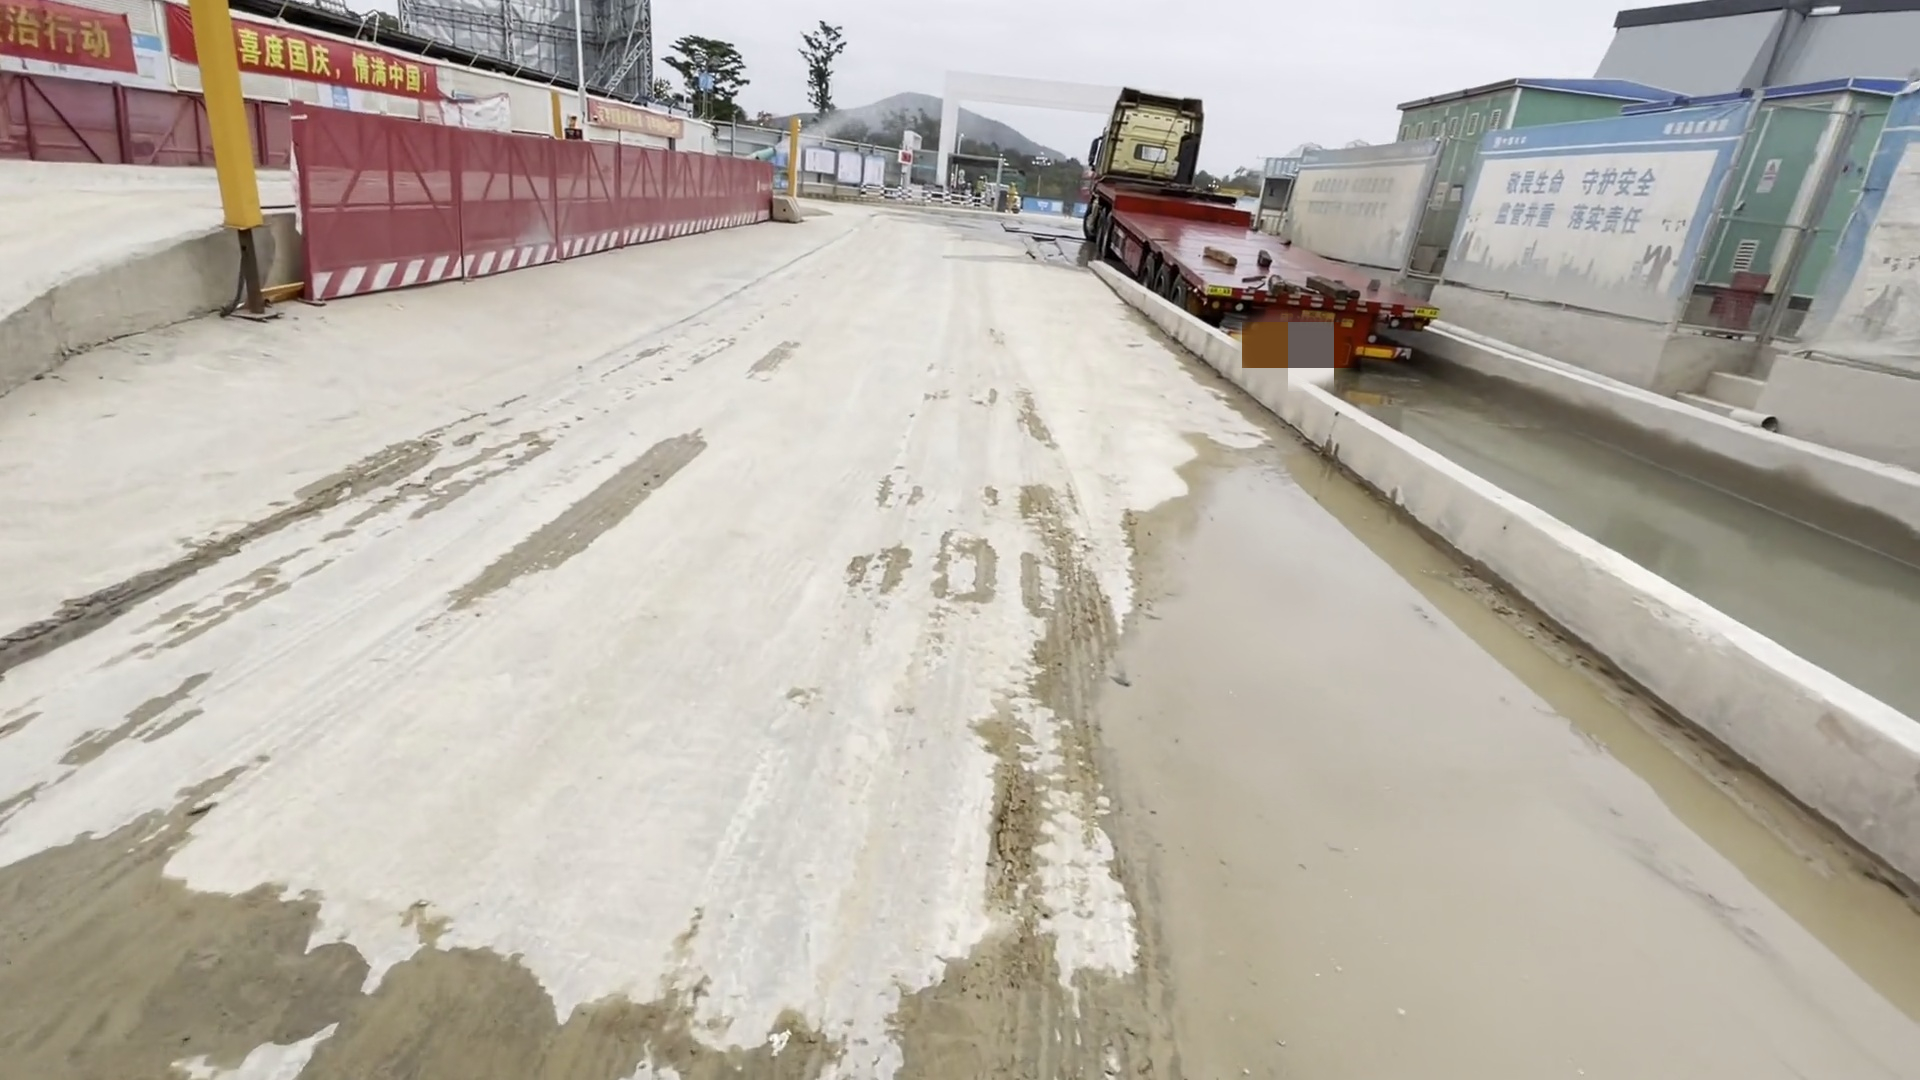slogan: (1474, 117, 1716, 301), (174, 12, 443, 113), (1292, 160, 1411, 256), (1, 1, 133, 69), (582, 95, 687, 137)
